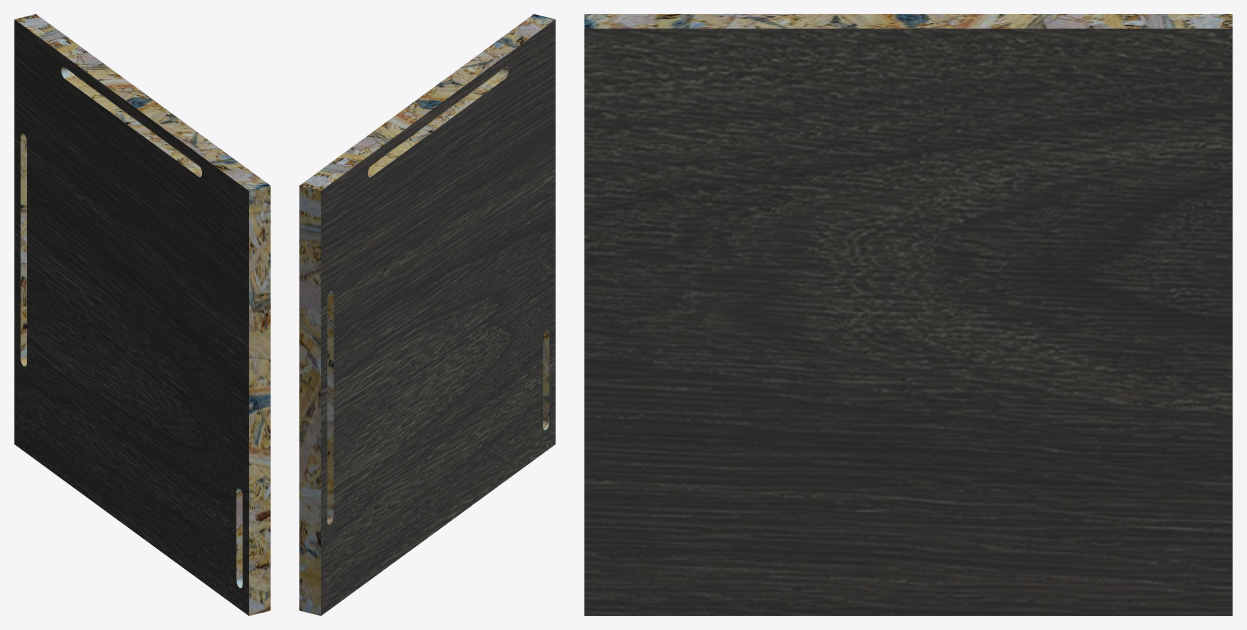
File: floor_right_gable.obj
3 renders of one model, left to right at view 1: azimuth 30°, elevation 25°; view 2: azimuth 150°, elevation 25°; view 3: azimuth 270°, elevation 25°, orthographic. The views are drawn at different scales.
Visible parts, largest first — view 1: Product; view 2: Product; view 3: Product.
Boxes of the visible parts, x1=… form: Product: x1=14, y1=14, x2=270, y2=615; Product: x1=299, y1=14, x2=555, y2=615; Product: x1=584, y1=14, x2=1232, y2=615.
Bounding box in the file's own units: 16 × 300 × 300.
